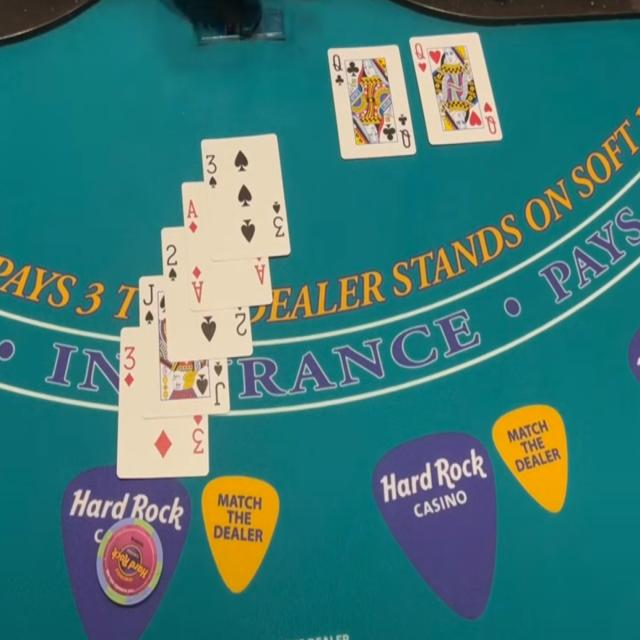2: (164, 241, 180, 267)
3: (121, 344, 139, 373), (202, 150, 220, 176)
A: (184, 196, 200, 220)
J: (141, 280, 155, 307)
Q: (330, 52, 345, 75), (412, 41, 428, 62)
